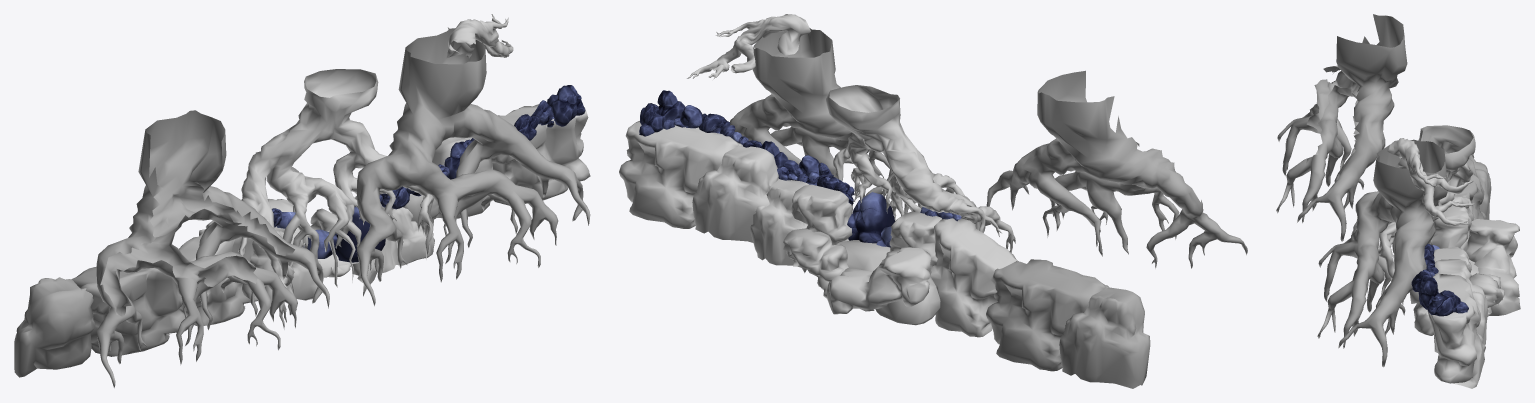
The model's file is A1P07A_E_Ground.fbx.
3 views of the same model, side by side, from view 1: azimuth 30°, elevation 25°; view 2: azimuth 150°, elevation 25°; view 3: azimuth 270°, elevation 25° (orthographic). The views are drawn at different scales.
Visible parts, largest first — view 1: mesh_Root_04, mesh_Root_01, mesh_Root_02, mesh_Rock_05, mesh_Rock_01, mesh_Rock_04, mesh_Rock_02, mesh_Root_03, mesh_Rock_03, mesh_Stone_G4, mesh_BigStone_A; view 2: mesh_Root_04, mesh_Rock_05, mesh_Rock_01, mesh_Root_02, mesh_Root_01, mesh_Rock_03, mesh_Rock_04, mesh_Rock_02, mesh_Root_03, mesh_BigStone_A, mesh_Stone_G4; view 3: mesh_Root_04, mesh_Root_01, mesh_Rock_01, mesh_Rock_03, mesh_Root_02, mesh_Root_03, mesh_Rock_04, mesh_Rock_05, mesh_Rock_02, mesh_Stone_I2, mesh_Stone_G4.
Part boxes in pixels (x1,y1,x2,y2): mesh_Root_04: (96,110,329,388); mesh_Root_01: (357,28,590,306); mesh_Root_02: (238,69,433,329); mesh_Rock_05: (14,266,187,377); mesh_Rock_01: (432,104,590,219); mesh_Rock_04: (179,199,323,326); mesh_Rock_02: (351,194,439,275); mesh_Root_03: (446,14,513,58); mesh_Rock_03: (199,196,377,296); mesh_Stone_G4: (552,85,577,126); mesh_BigStone_A: (335,206,385,262); mesh_Root_04: (986,70,1247,268); mesh_Rock_05: (986,259,1150,388); mesh_Rock_01: (619,121,778,242); mesh_Root_02: (826,85,1015,252); mesh_Root_01: (730,28,955,213); mesh_Rock_03: (783,228,940,325); mesh_Rock_04: (886,211,1018,337); mesh_Rock_02: (750,178,852,277); mesh_Root_03: (687,14,810,79); mesh_BigStone_A: (847,192,894,243); mesh_Stone_G4: (657,90,685,120); mesh_Root_04: (1276,14,1407,241); mesh_Root_01: (1317,139,1447,367); mesh_Rock_01: (1427,259,1488,388); mesh_Rock_03: (1410,219,1520,320); mesh_Root_02: (1351,125,1475,304); mesh_Root_03: (1387,138,1474,225); mesh_Rock_04: (1430,194,1474,260); mesh_Rock_05: (1457,151,1491,219); mesh_Rock_02: (1414,247,1471,335); mesh_Stone_I2: (1427,290,1456,316); mesh_Stone_G4: (1418,277,1438,309).
Size of what is drawn, in the model's own units: 8507 by 3888 by 3548.
